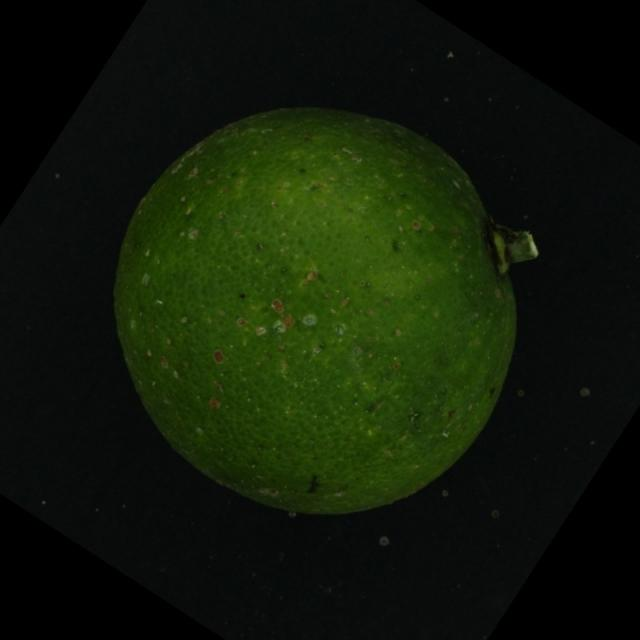grenning: (100, 92, 552, 545)
